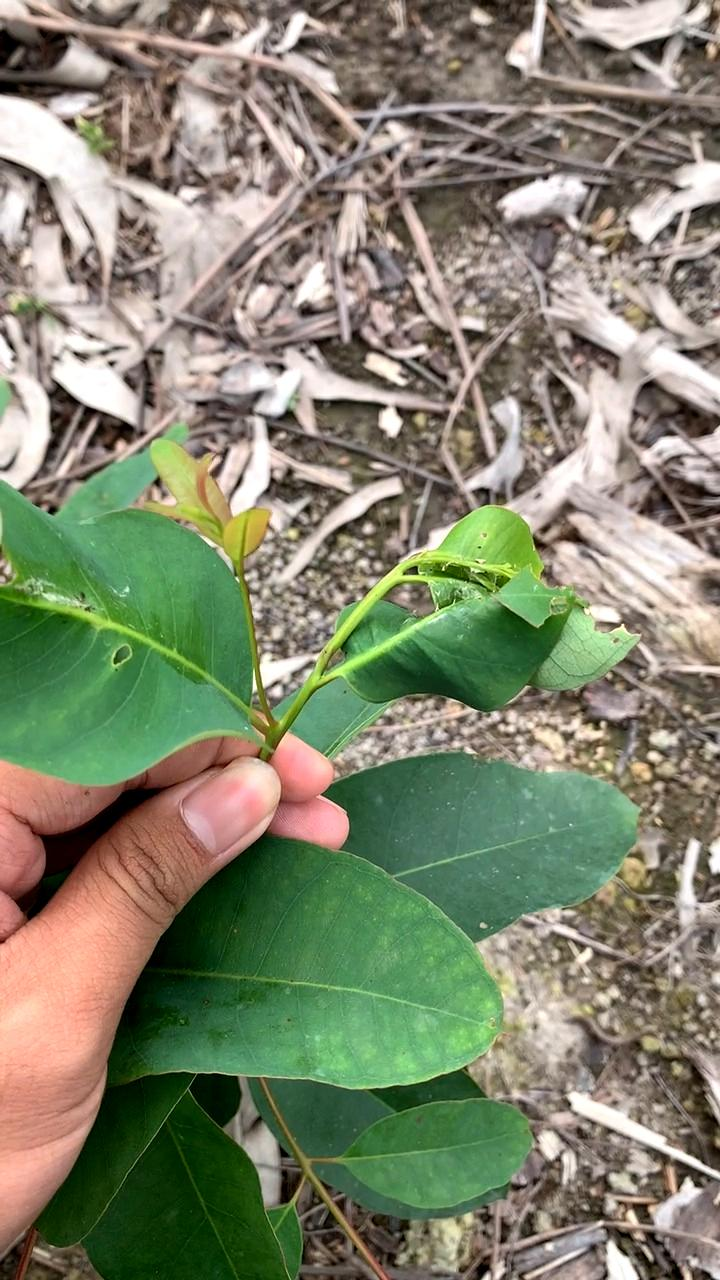Leaf Roller - Leaf: (346, 500, 647, 733)
